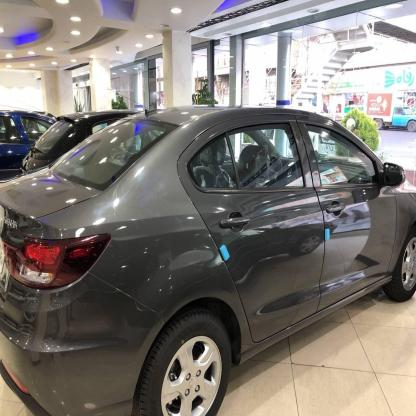Car: (0, 97, 416, 416), (18, 108, 140, 180), (0, 89, 51, 176)
